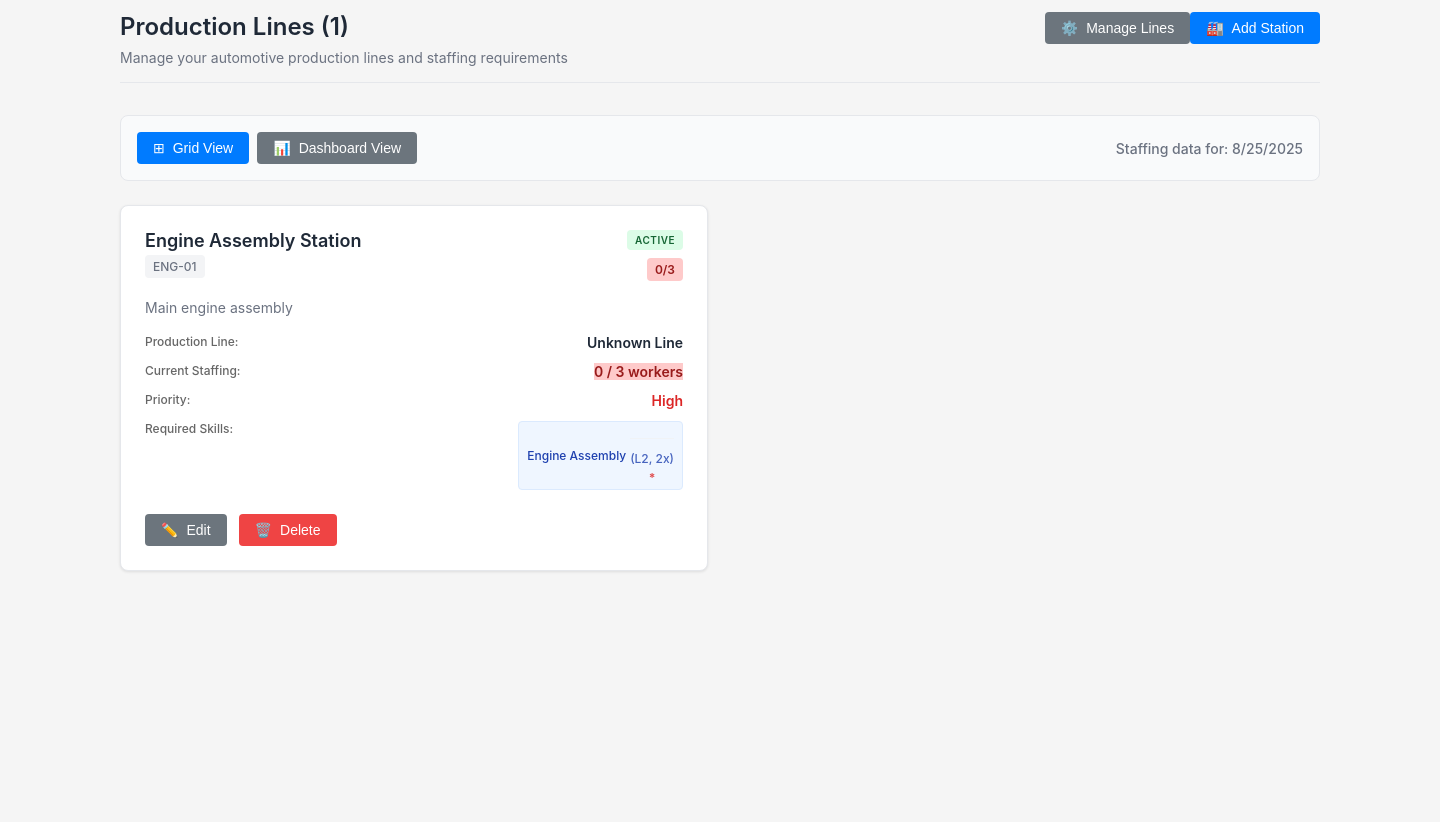
Test: StationManagement Integration › opens production line manager when manage lines is clicked
What coordinates should you click on to do the following:
click the button "⚙️ Manage Lines"
I would click on:
 (1117, 28)
Its box is 1045,12 -> 1190,44.
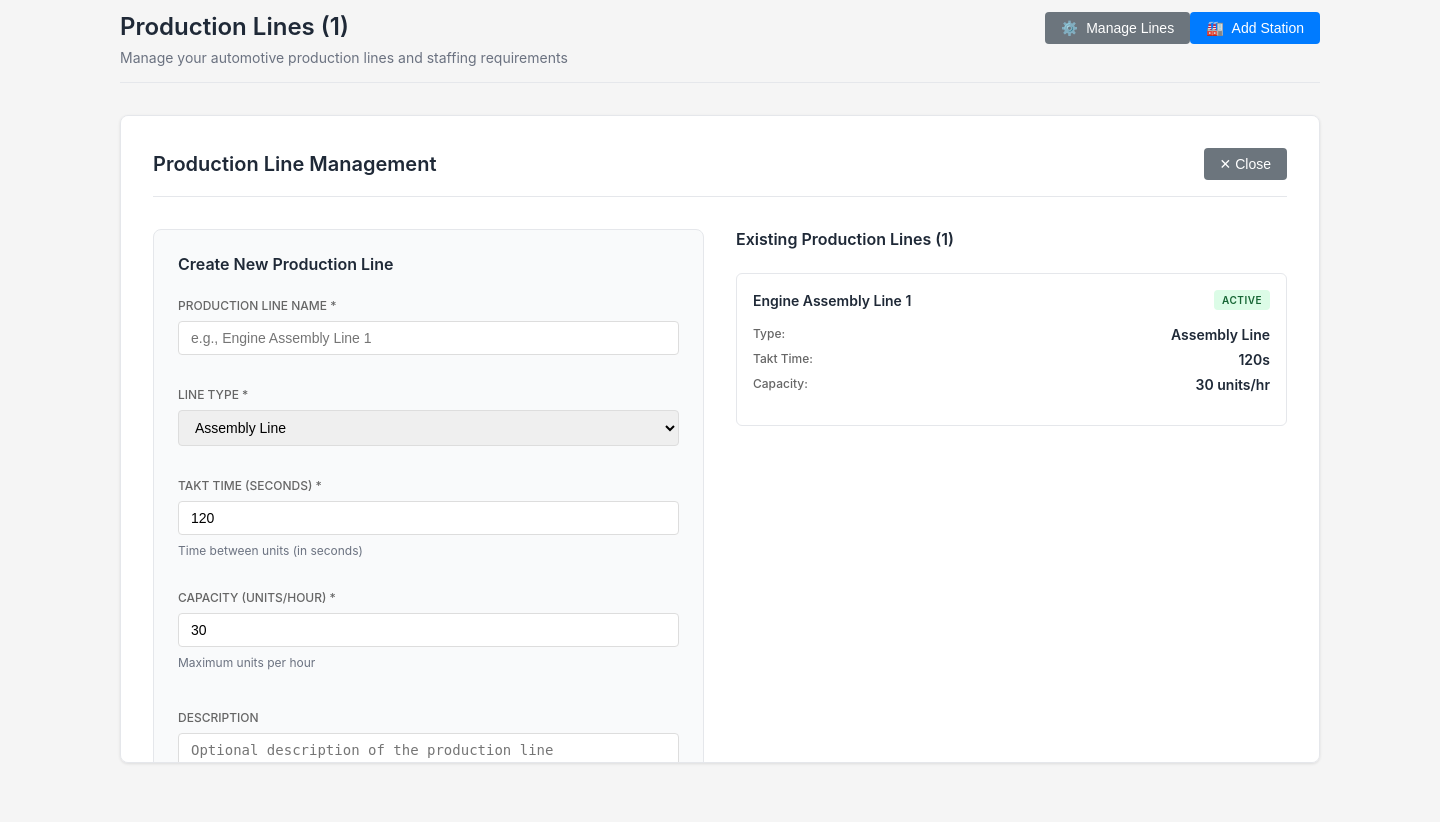
Check: the heading "Production Line Management" is shown, box 153,152 -> 436,176
